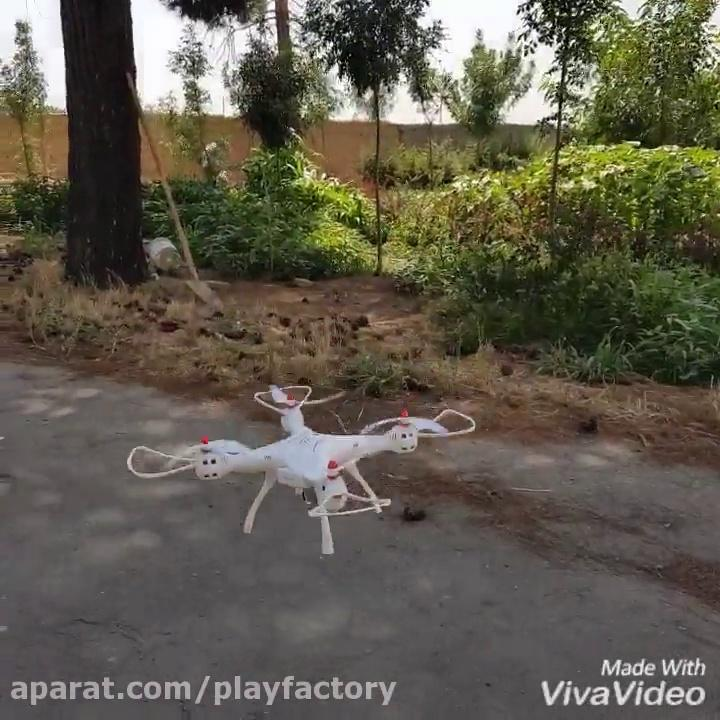drone: (124, 385, 473, 556)
